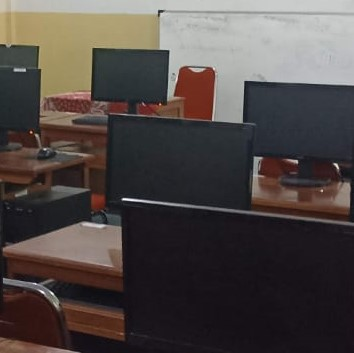monitor: (120, 198, 354, 349), (102, 113, 255, 223), (243, 81, 354, 185), (90, 48, 170, 105), (0, 66, 41, 134)
